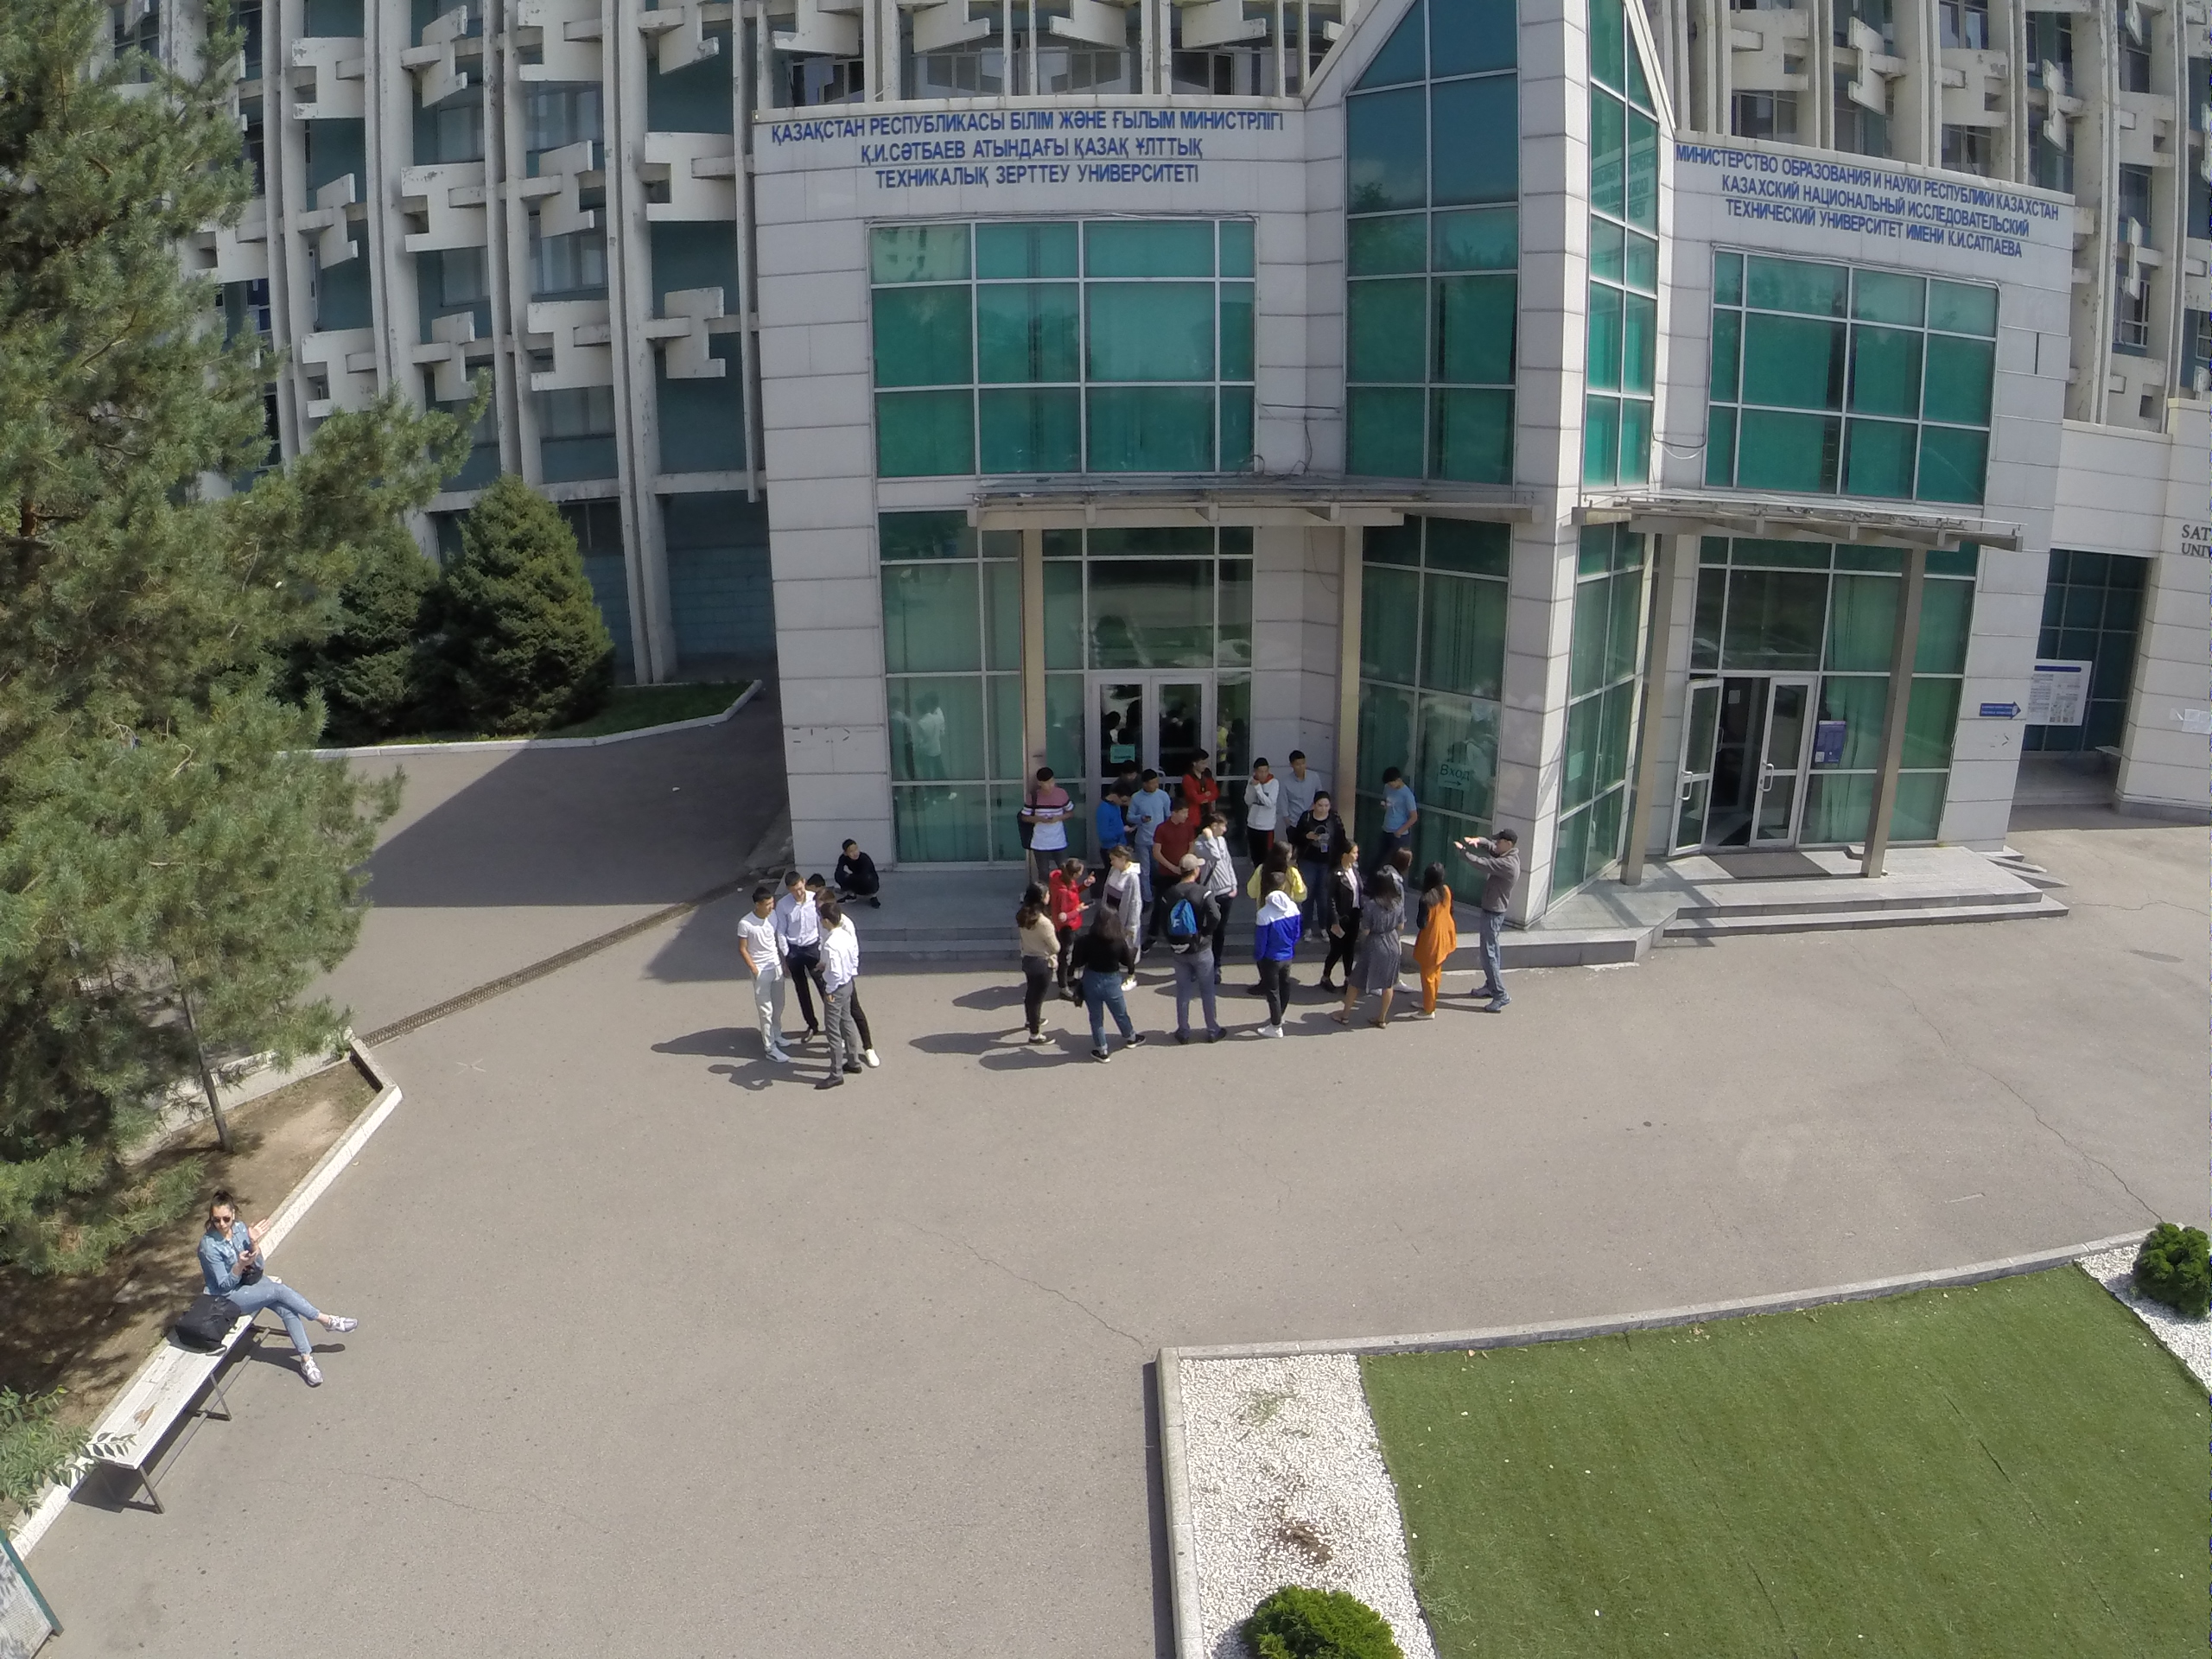person: (158, 1195, 359, 1395), (1458, 817, 1528, 1021), (1163, 850, 1230, 1042), (1337, 866, 1403, 1030), (1069, 904, 1138, 1058), (735, 881, 787, 1077), (817, 893, 865, 1093), (774, 867, 829, 1035), (1406, 850, 1457, 1017), (1252, 866, 1300, 1046), (1191, 806, 1235, 982), (1014, 881, 1057, 1054), (1010, 755, 1071, 873), (1322, 836, 1365, 1001), (1300, 782, 1341, 944), (1046, 851, 1083, 1002), (1103, 843, 1148, 946), (1242, 755, 1281, 870), (828, 833, 885, 912), (1150, 790, 1197, 885), (1181, 741, 1223, 835), (1247, 839, 1305, 905), (1378, 761, 1414, 862), (1135, 763, 1166, 861), (1095, 773, 1130, 858), (1279, 741, 1306, 842)
